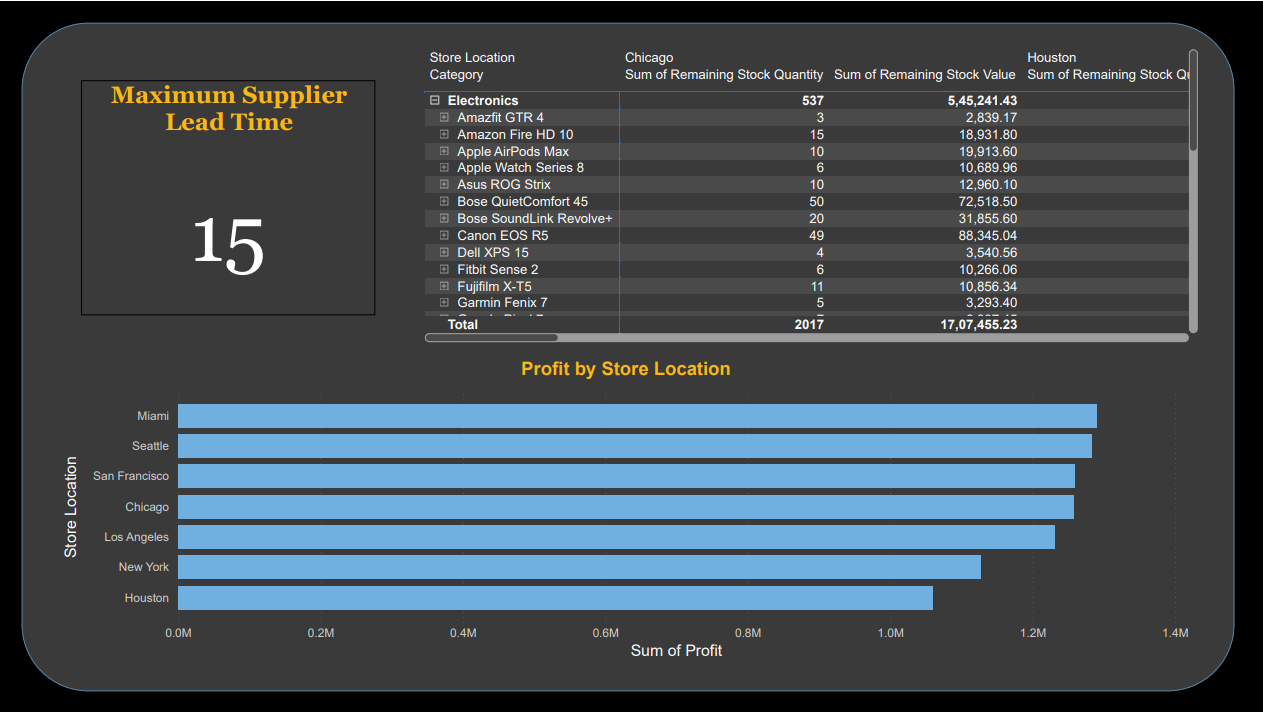

Layout of this report page (visuals, bound fields, positions):
{"tool":"powerbi","page":{"name":"Page 4","canvas":[1280,720],"ordinal":3},"visuals":[{"type":"shape","box":[22.7,20.8,1224.6,674.7],"z":0},{"type":"card","title":"Maximum Supplier Lead Time","fields":{"Values":["Max(Home Appliance Inventory.Supplier Lead Time (Days))"]},"box":[83.2,79.4,296.7,236.2],"z":1000},{"type":"pivotTable","fields":{"Rows":["Home Appliance Inventory.Category","Home Appliance Inventory.Product Name","Home Appliance Inventory.Product Type"],"Columns":["Home Appliance Inventory.Store Location"],"Values":["Sum(Home Appliance Inventory.Remaining Stock Quantity)","Sum(Home Appliance Inventory.Remaining Stock Value)"]},"box":[425.2,43.5,789.9,304.3],"z":2000},{"type":"barChart","title":"Profit by Store Location","fields":{"Category":["Home Appliance Inventory.Store Location"],"Y":["Sum(Home Appliance Inventory.Profit)"]},"box":[60.5,359.1,1145.2,308],"z":3000},{"type":"textbox","box":[100.2,100.2,701.5,136.8],"z":3001}]}

Visuals, with their boxes in screenshot pixels (x1, y1, x2, y2), scaled from the page's 1280x720 canvas onto the 1263x712 screenshot:
shape: <bbox>22, 21, 1231, 688</bbox>
"Maximum Supplier Lead Time" card: <bbox>82, 79, 375, 312</bbox>
pivotTable - Home Appliance Inventory.Category x Home Appliance Inventory.Product Name: <bbox>420, 43, 1199, 344</bbox>
"Profit by Store Location" barChart: <bbox>60, 355, 1190, 660</bbox>
textbox: <bbox>99, 99, 791, 234</bbox>
